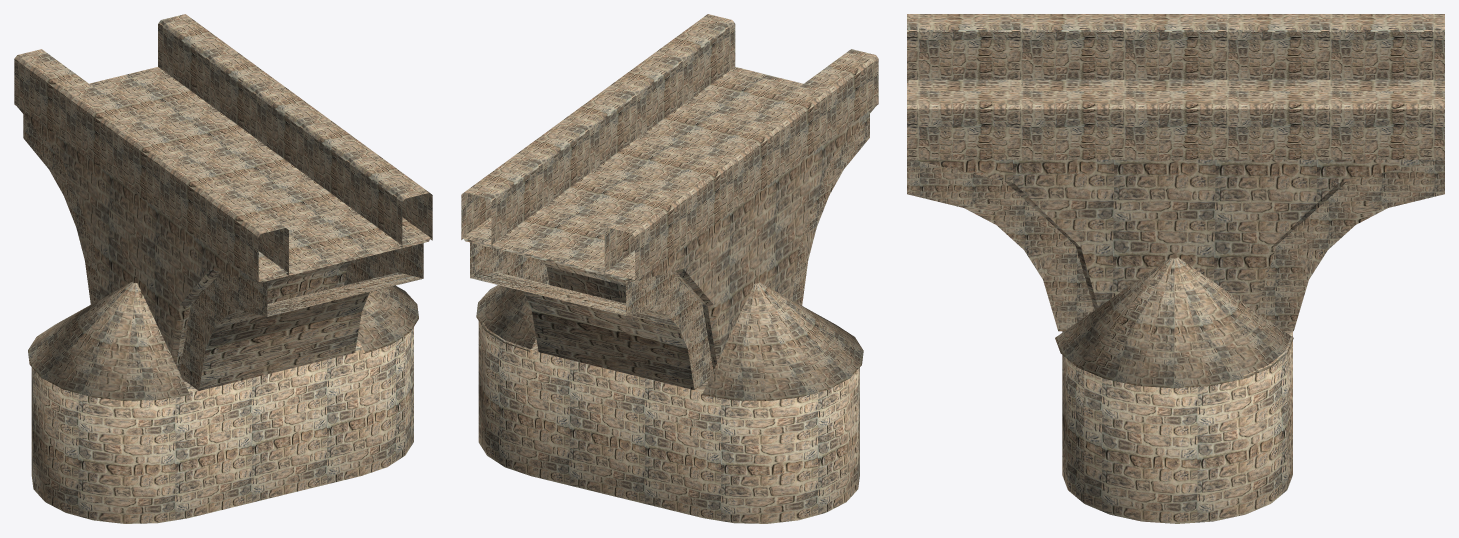
Rendered from fbx_PuenteRomano.fbx.
The picture shows the model from 3 angles, left to right: view 1: azimuth 30°, elevation 25°; view 2: azimuth 150°, elevation 25°; view 3: azimuth 270°, elevation 25°; orthographic projection. The views are drawn at different scales.
Parts seen in each view (by area): view 1: polySurface1; view 2: polySurface1; view 3: polySurface1.
Part boxes in pixels (x1=…): polySurface1: x1=14, y1=14, x2=432, y2=523; polySurface1: x1=461, y1=14, x2=878, y2=523; polySurface1: x1=907, y1=14, x2=1444, y2=523.
Size of the model in its own units: 11.98 by 10.61 by 14.
